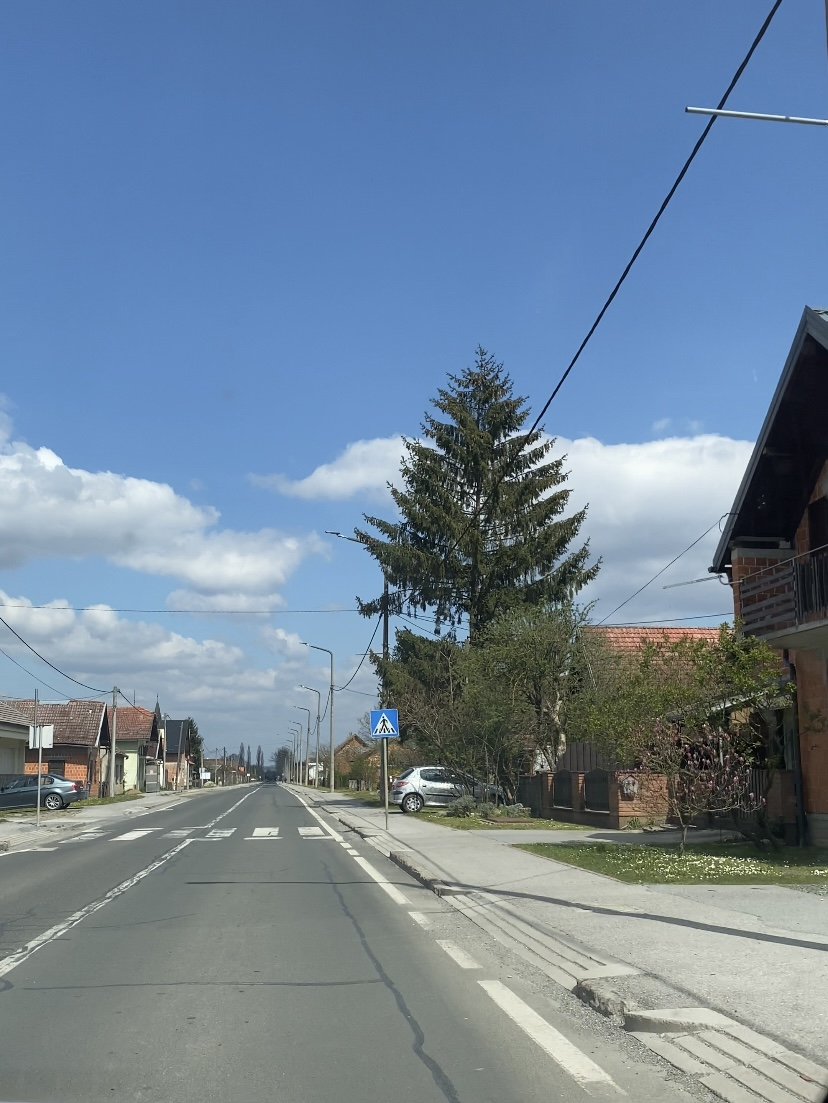Pješački prijelaz: (370, 709, 399, 737)
